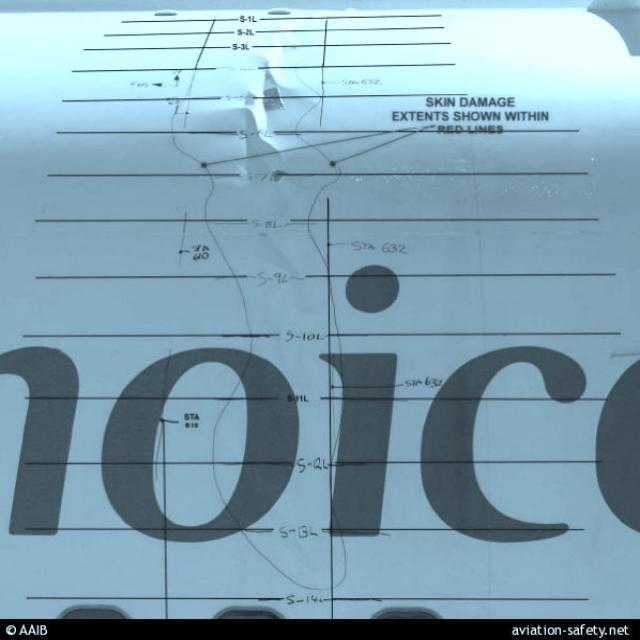dent: (239, 12, 316, 363)
